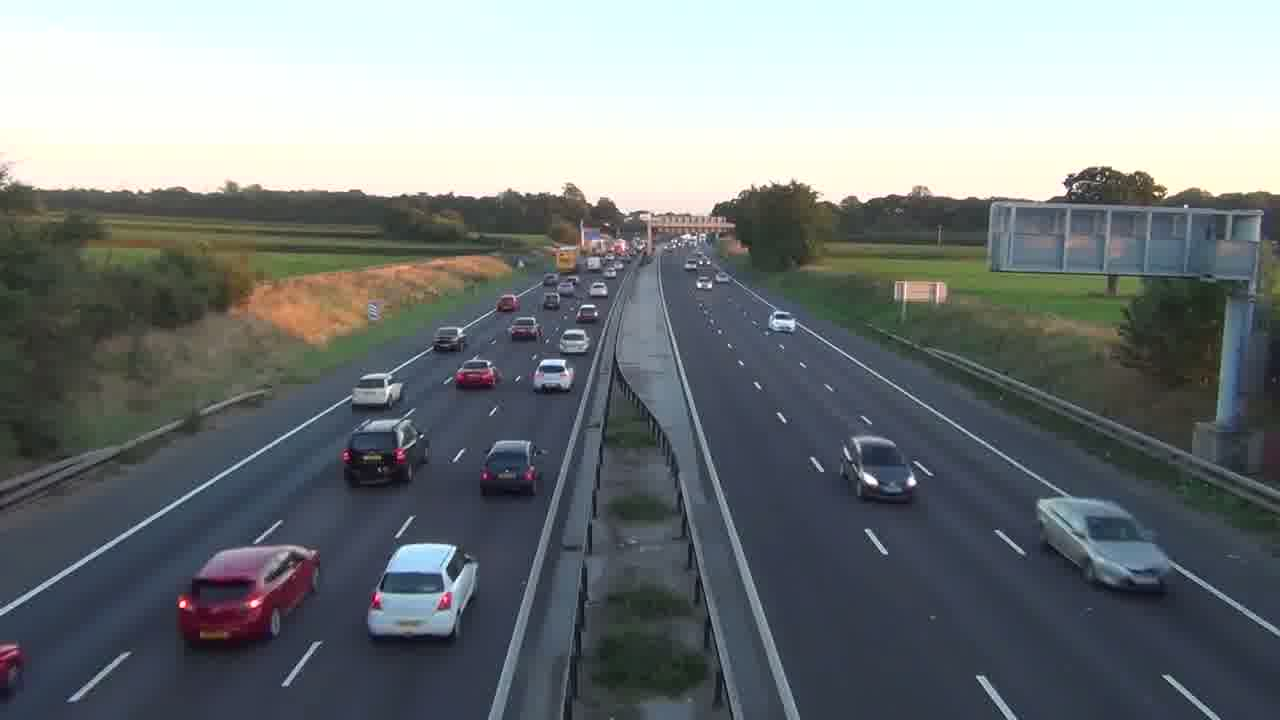car: (176, 543, 322, 647), (1035, 495, 1172, 594), (367, 541, 480, 643), (339, 416, 430, 487), (839, 433, 919, 502), (479, 439, 545, 496), (0, 642, 28, 701), (531, 357, 576, 393), (454, 357, 501, 389), (509, 315, 543, 341)
